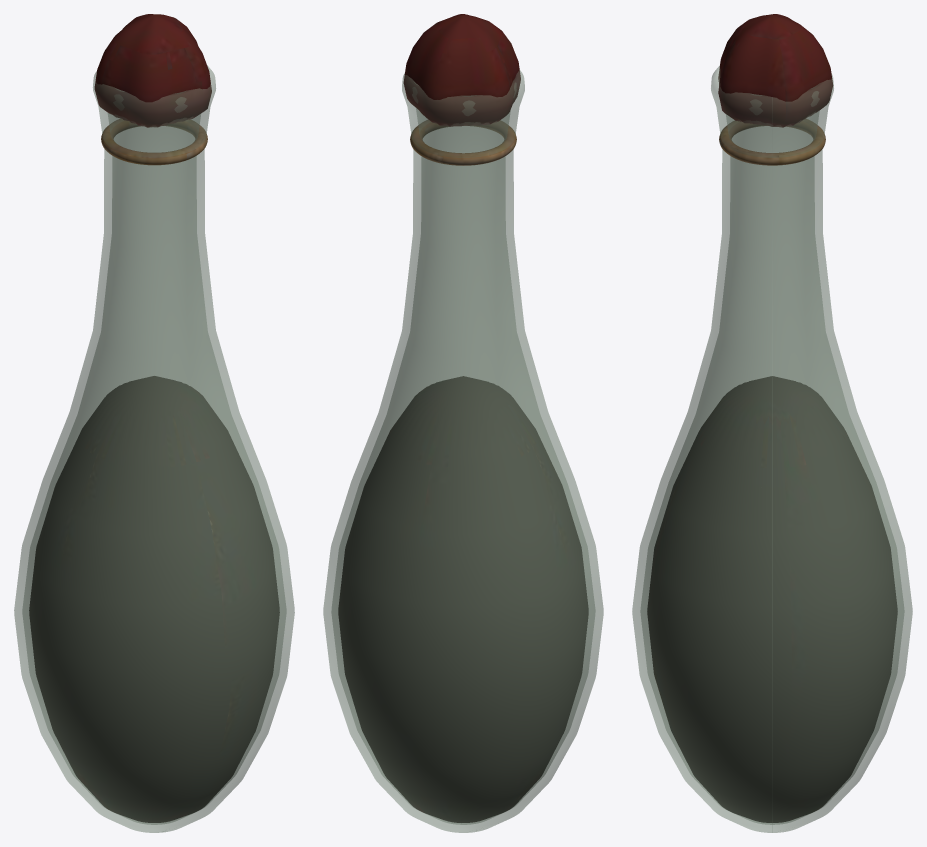
The model's file is naphtha.glb.
3 renders of one model, left to right at view 1: azimuth 30°, elevation 25°; view 2: azimuth 150°, elevation 25°; view 3: azimuth 270°, elevation 25°, orthographic.
Parts seen in each view (by area): view 1: glass, naphtha; view 2: glass, naphtha; view 3: glass, naphtha.
Part boxes in pixels (<box>): glass: <box>14,65,294,832</box>; naphtha: <box>29,14,279,822</box>; glass: <box>323,70,603,832</box>; naphtha: <box>338,14,588,822</box>; glass: <box>632,65,912,832</box>; naphtha: <box>647,14,897,822</box>.
Size of the model in its own units: 0.0533 by 0.1707 by 0.0533.
Materials: 2 (1 with a texture image).
